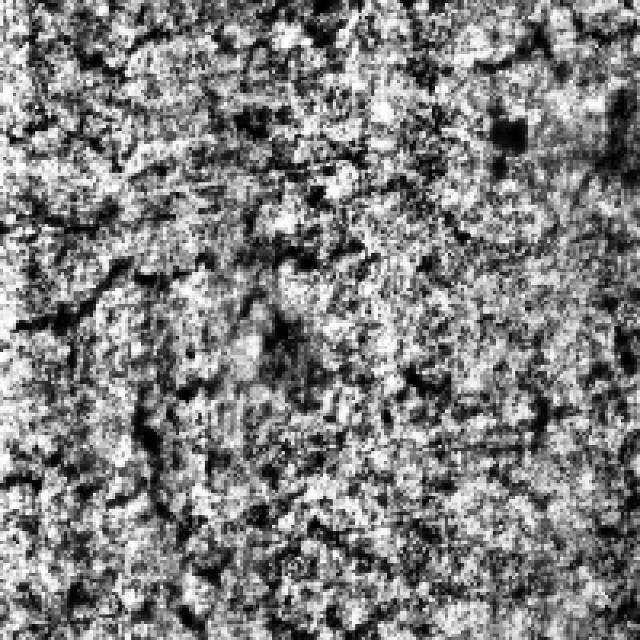Pitted_Surface: (3, 170, 378, 548)
